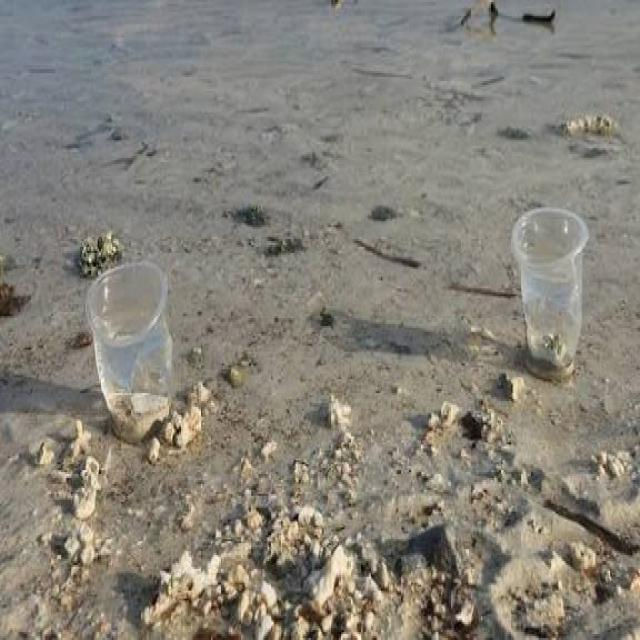plastic: (54, 269, 218, 486), (469, 207, 618, 404)
